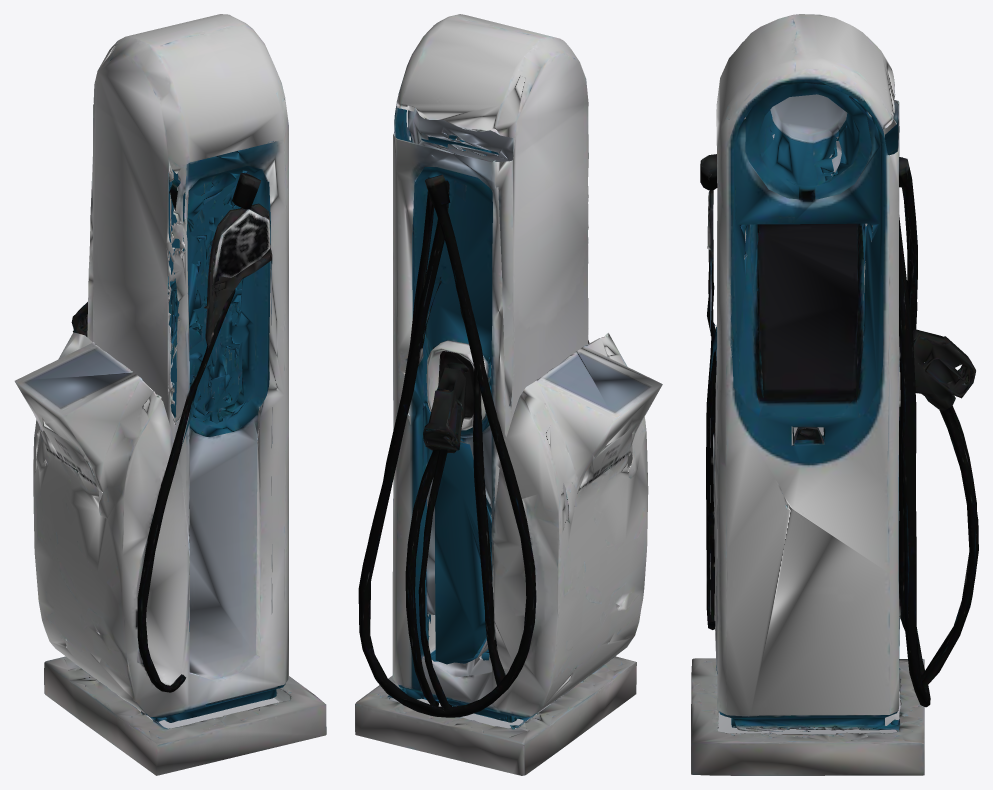
The picture shows the model from 3 angles, left to right: view 1: azimuth 30°, elevation 25°; view 2: azimuth 150°, elevation 25°; view 3: azimuth 270°, elevation 25°; orthographic projection. The views are drawn at different scales.
Visible parts, largest first — view 1: geometry_0; view 2: geometry_0; view 3: geometry_0.
Part boxes in pixels (x1=…): geometry_0: x1=14, y1=14, x2=326, y2=775; geometry_0: x1=355, y1=14, x2=662, y2=775; geometry_0: x1=691, y1=14, x2=978, y2=775.
Bounding box in the file's own units: 0.3561 × 1 × 0.3727.
Materials: 1 (1 with a texture image).
